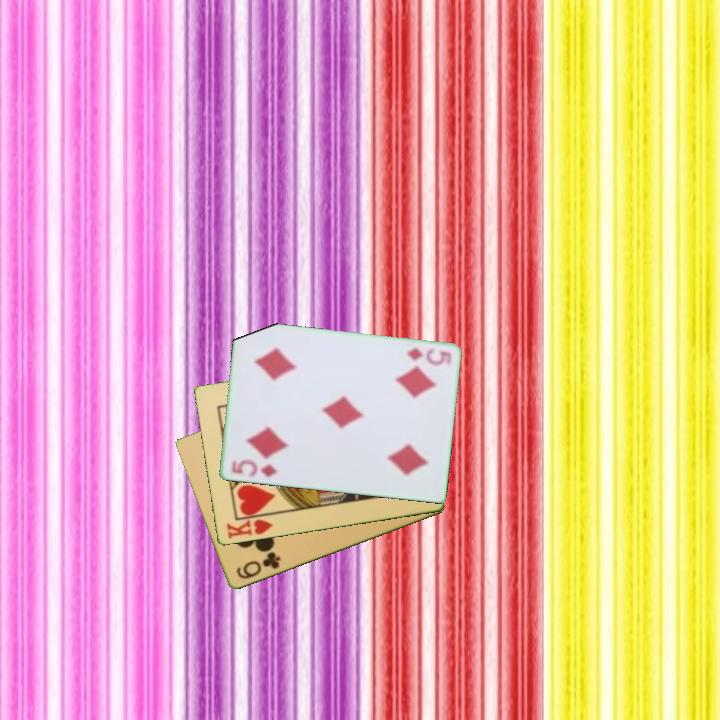5d: (228, 456, 280, 480), (403, 345, 454, 368)
6c: (233, 548, 283, 582)
Kh: (223, 511, 276, 542)
